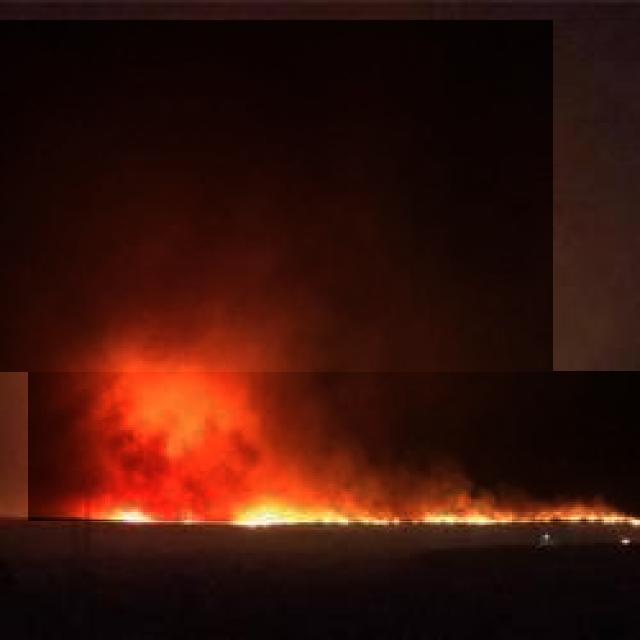Fire: (28, 371, 640, 521)
Smoke: (0, 20, 553, 372)
